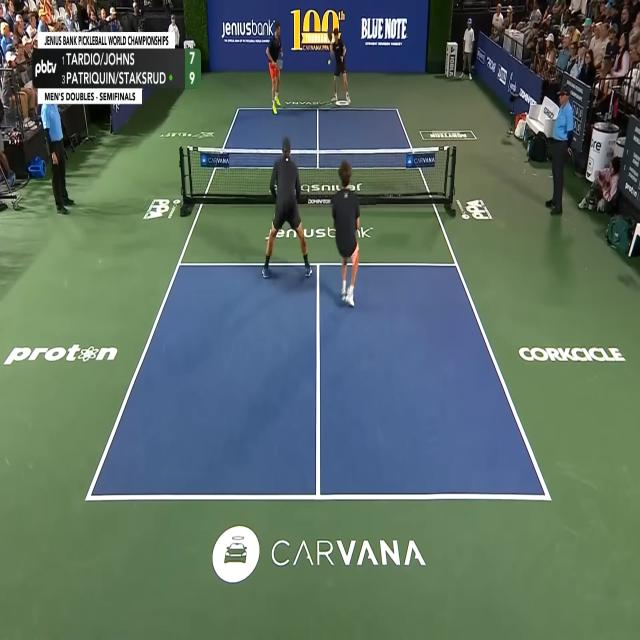ball: (327, 60, 331, 65)
